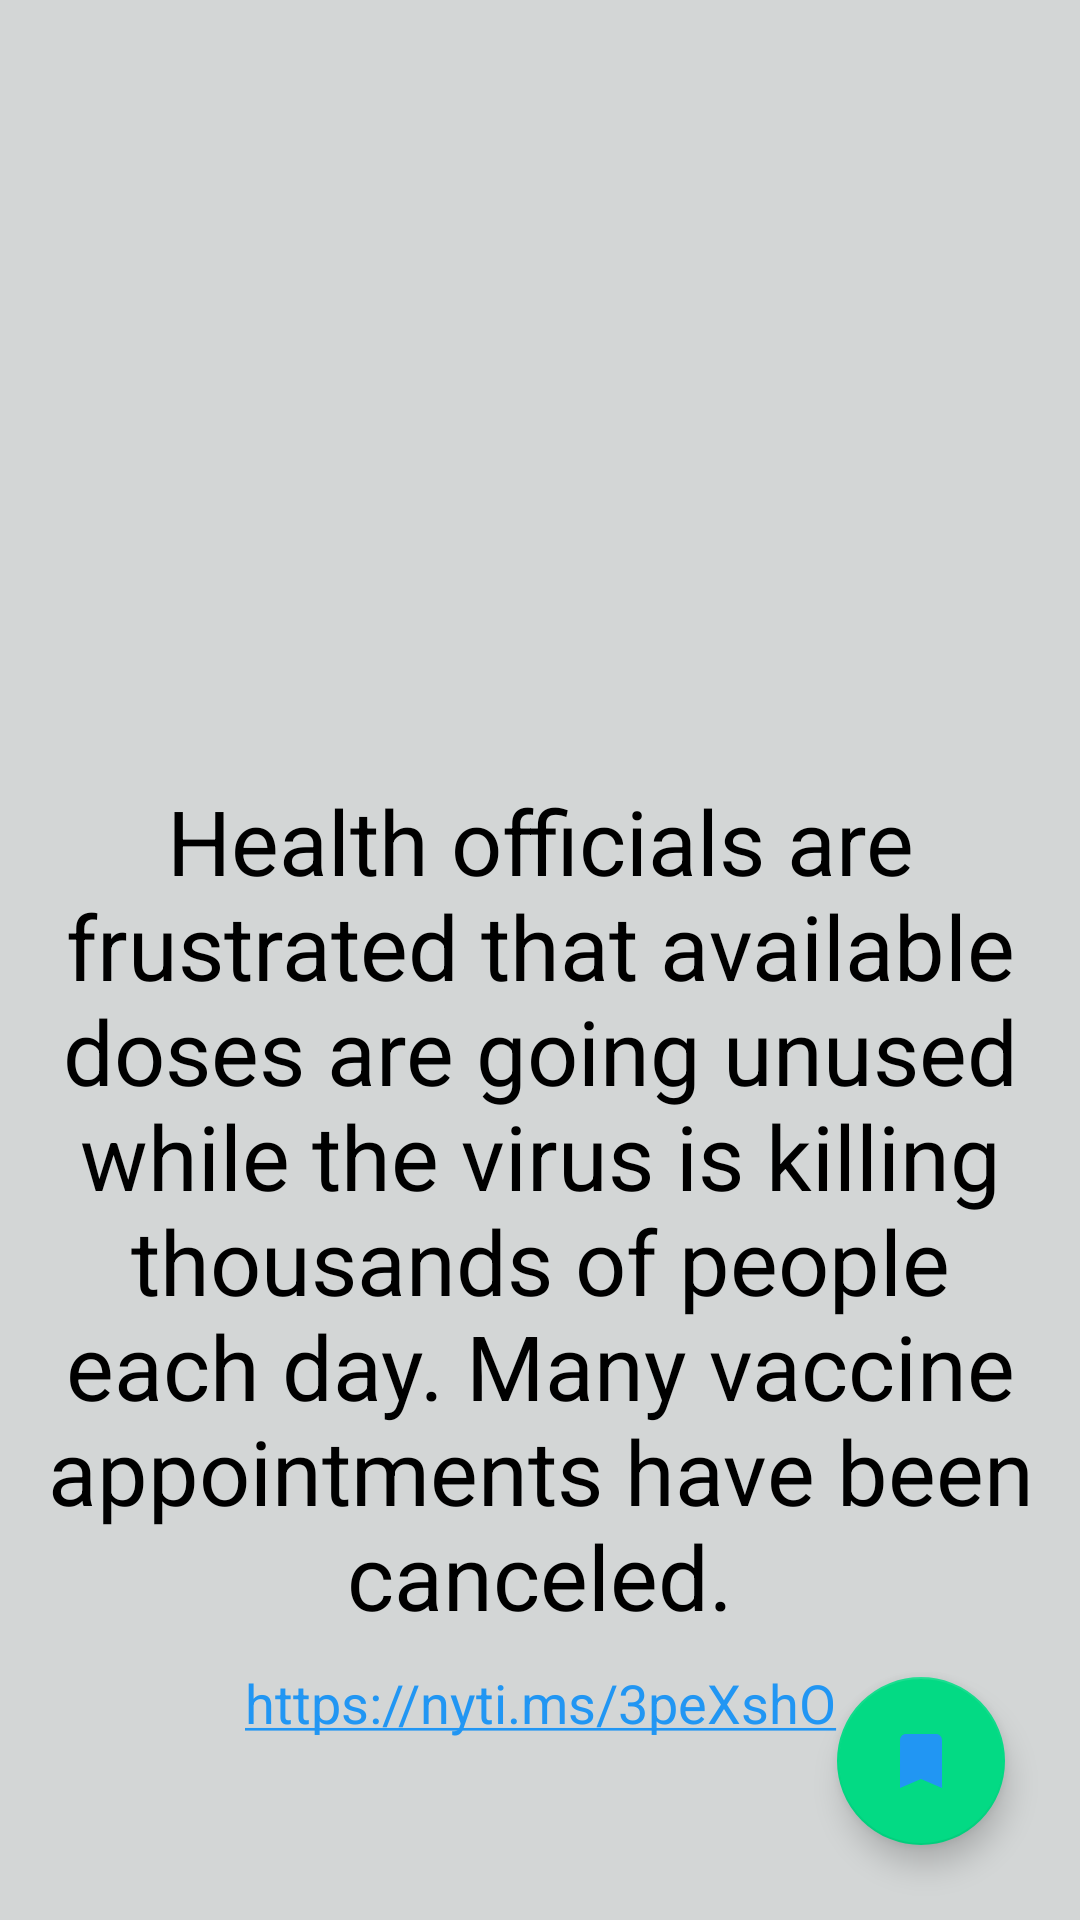

Screen size 1080 x 1920. Icon name, then its box in pixels as (x1, y1, x2, y2):
bookmark: (837, 1677, 1005, 1845)
